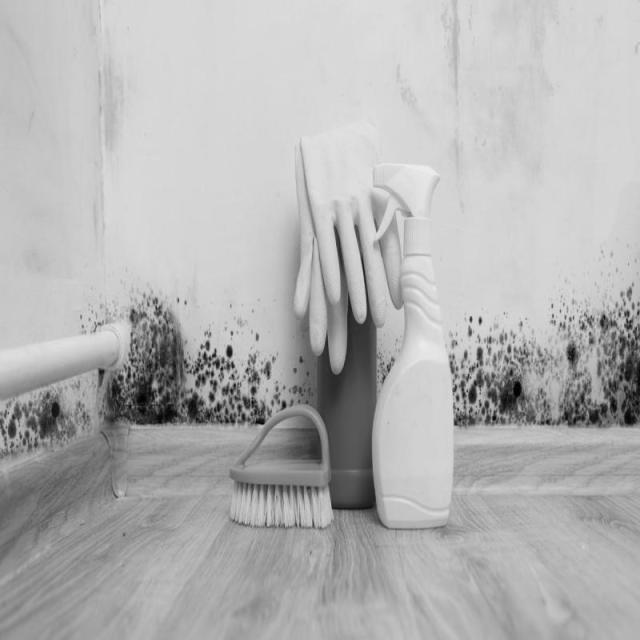stain marks: (0, 282, 320, 500), (445, 282, 640, 444)
